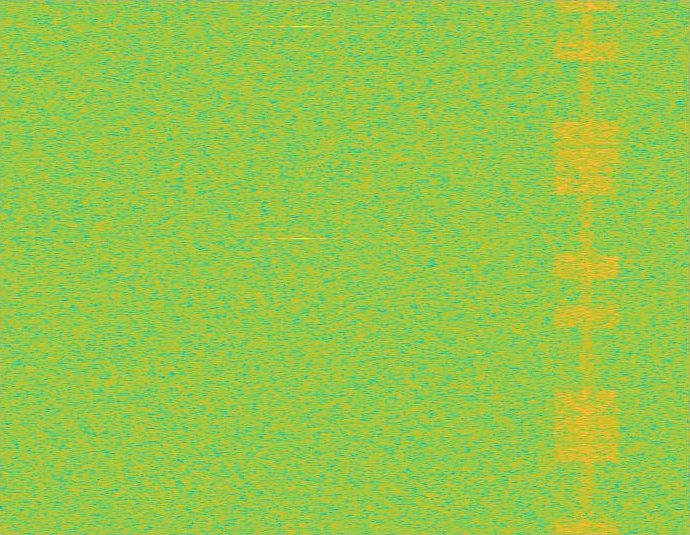DSSS: (579, 0, 594, 534)
LTE: (552, 0, 621, 534)
Radar: (296, 0, 310, 534)
